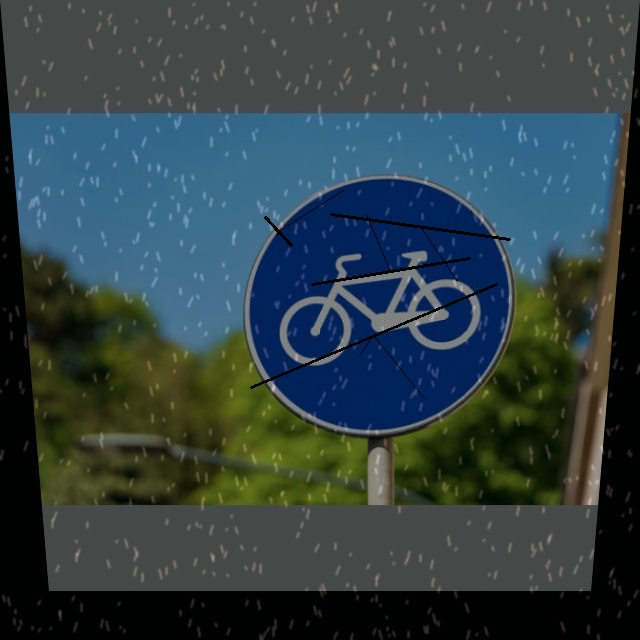Compulsory_Cycle_Track: (242, 174, 523, 438)
